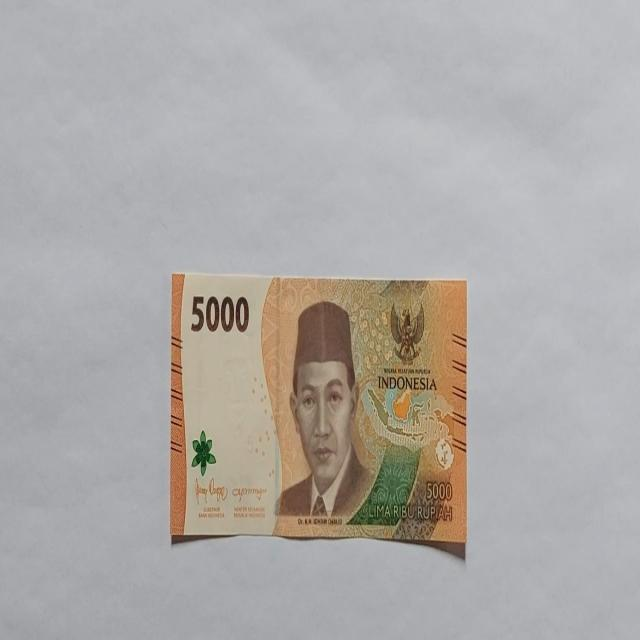lima ribu rupiah: (170, 271, 468, 554), (274, 299, 376, 521)
